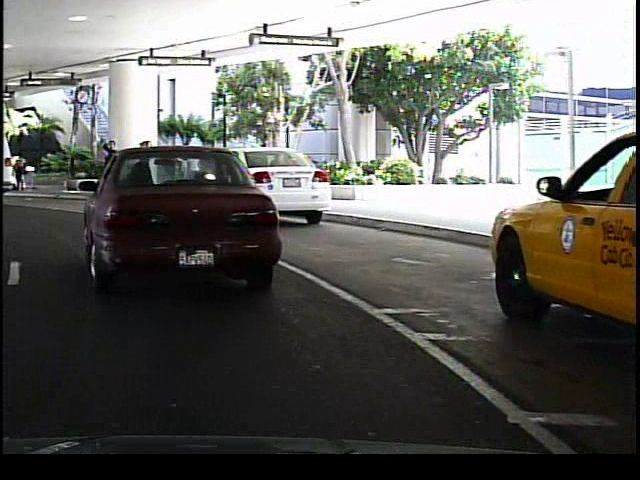person: (176, 142, 203, 193), (96, 137, 119, 196), (133, 138, 156, 195), (17, 153, 30, 197)
